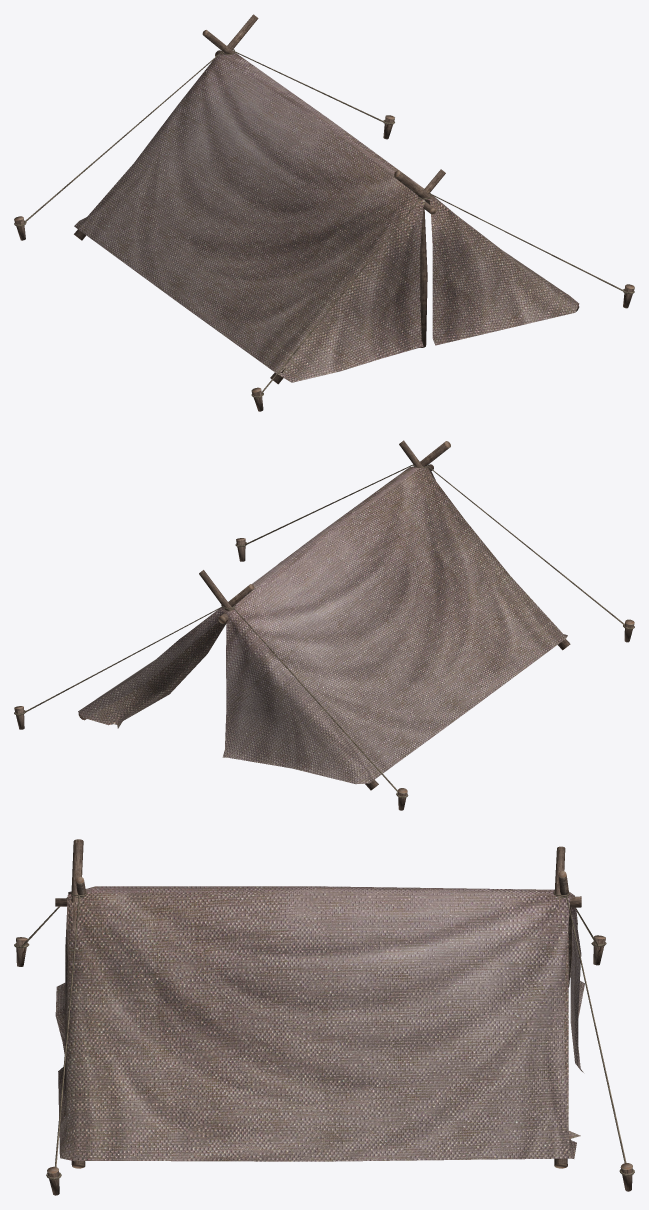
Rendered from tent3.fbx.
3 renders of one model, top to bottom at view 1: azimuth 30°, elevation 25°; view 2: azimuth 150°, elevation 25°; view 3: azimuth 270°, elevation 25°, orthographic. The views are drawn at different scales.
Visible parts, largest first — view 1: Plane_001, Plane, wood1; view 2: Plane_001, Plane, wood1; view 3: Plane_001, Plane, wood1.
Boxes of the visible parts, left/top/right/bottom form: Plane_001: left=74, top=53, right=578, bottom=382; Plane: left=74, top=52, right=578, bottom=381; wood1: left=14, top=14, right=634, bottom=411; Plane_001: left=78, top=465, right=567, bottom=784; Plane: left=79, top=467, right=566, bottom=783; wood1: left=14, top=440, right=634, bottom=810; Plane_001: left=55, top=886, right=584, bottom=1161; Plane: left=56, top=886, right=582, bottom=1161; wood1: left=14, top=839, right=634, bottom=1195.
Size of the model in its own units: 190 by 83.89 by 209.
